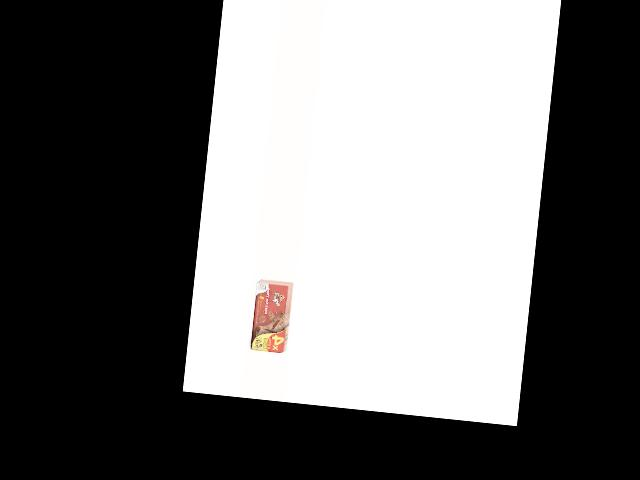chocolate: (248, 279, 293, 354)
